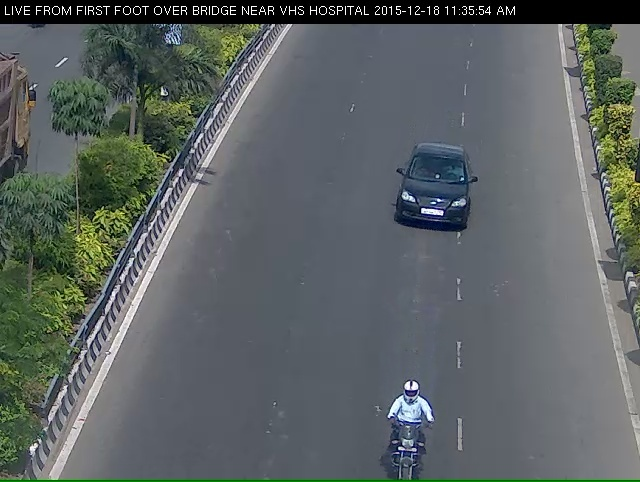Car: (384, 135, 488, 262)
Person: (371, 410, 454, 481)
